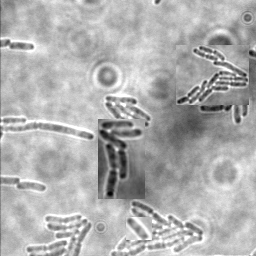Dividing: (1, 123, 95, 142), (8, 41, 35, 52)
Microcolony: (109, 200, 205, 255), (176, 45, 249, 105), (98, 119, 145, 199), (25, 212, 94, 255), (103, 96, 150, 132), (184, 106, 248, 126), (16, 182, 48, 193)
Rod: (126, 217, 152, 240)
